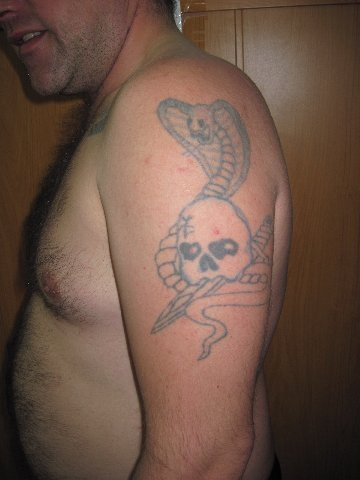tatu7_zmeya: (146, 75, 288, 341)
